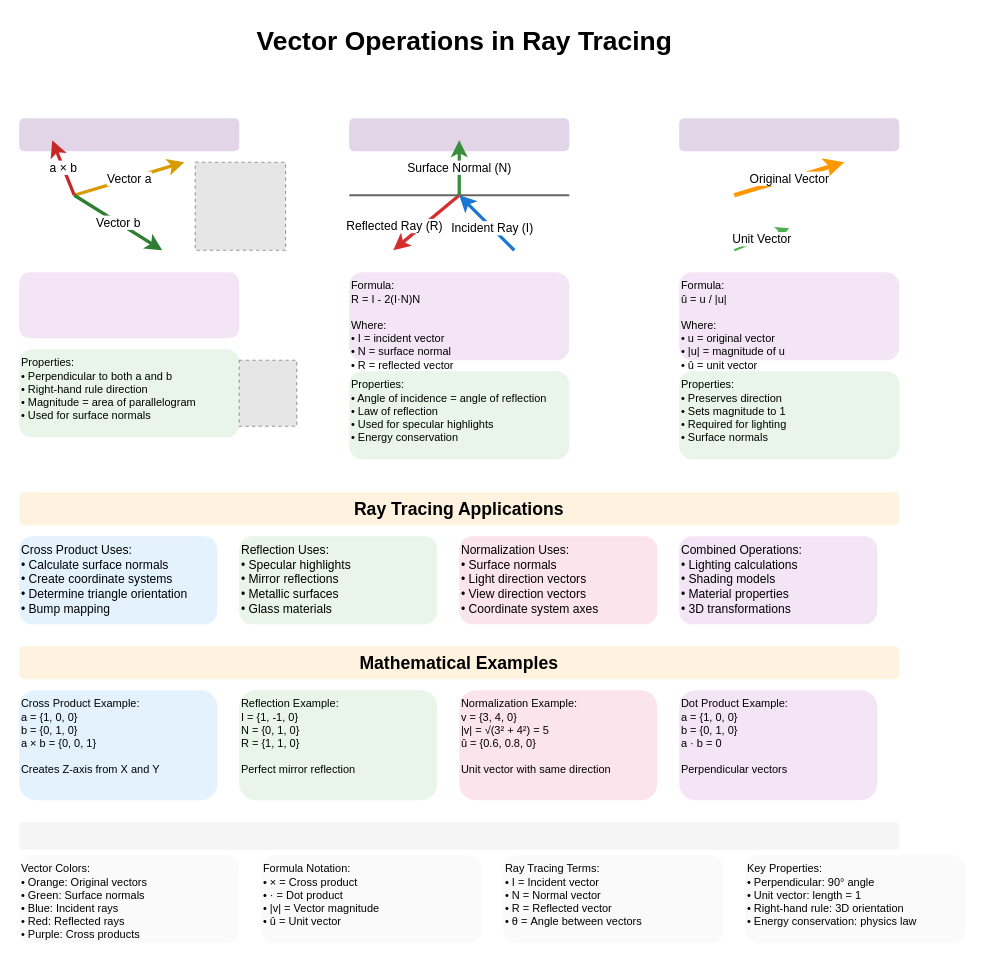
Some shapes in this 983 by 961 pixel diagram are drawn without their labels. Grey dashed boxes stand in for pictures. The shapes that lost their labels are listed below. From the top down, each one's box as (x1, y1, x2, y2) in pixels, then its label:
(19, 118, 239, 151): Cross Product (a × b)
(349, 118, 569, 151): Vector Reflection
(679, 118, 899, 151): Vector Normalization
(19, 272, 239, 338): Formula: a × b = (a_y×b_z - a_z×b_y, a_z×b_x - a_x×b_z, a_x×b_y - a_y×b_x)
(19, 822, 899, 849): Legend
